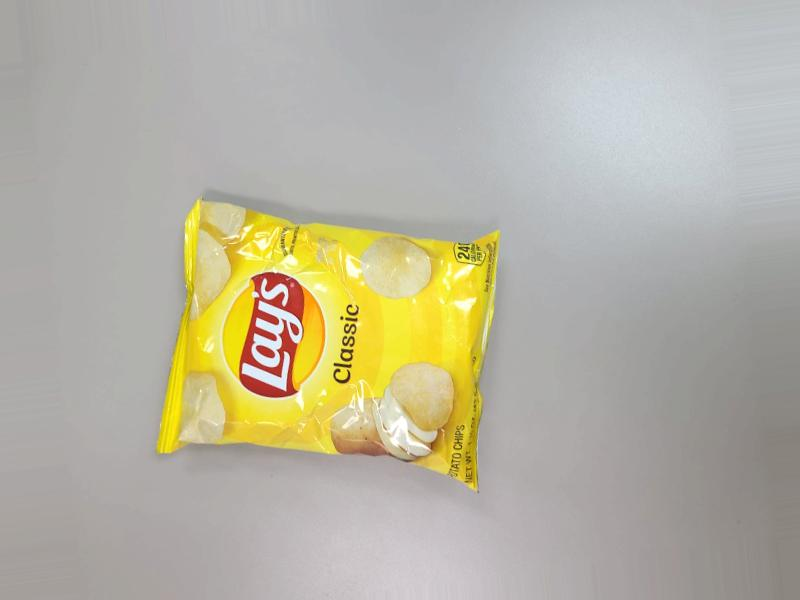lays: (150, 204, 505, 506)
